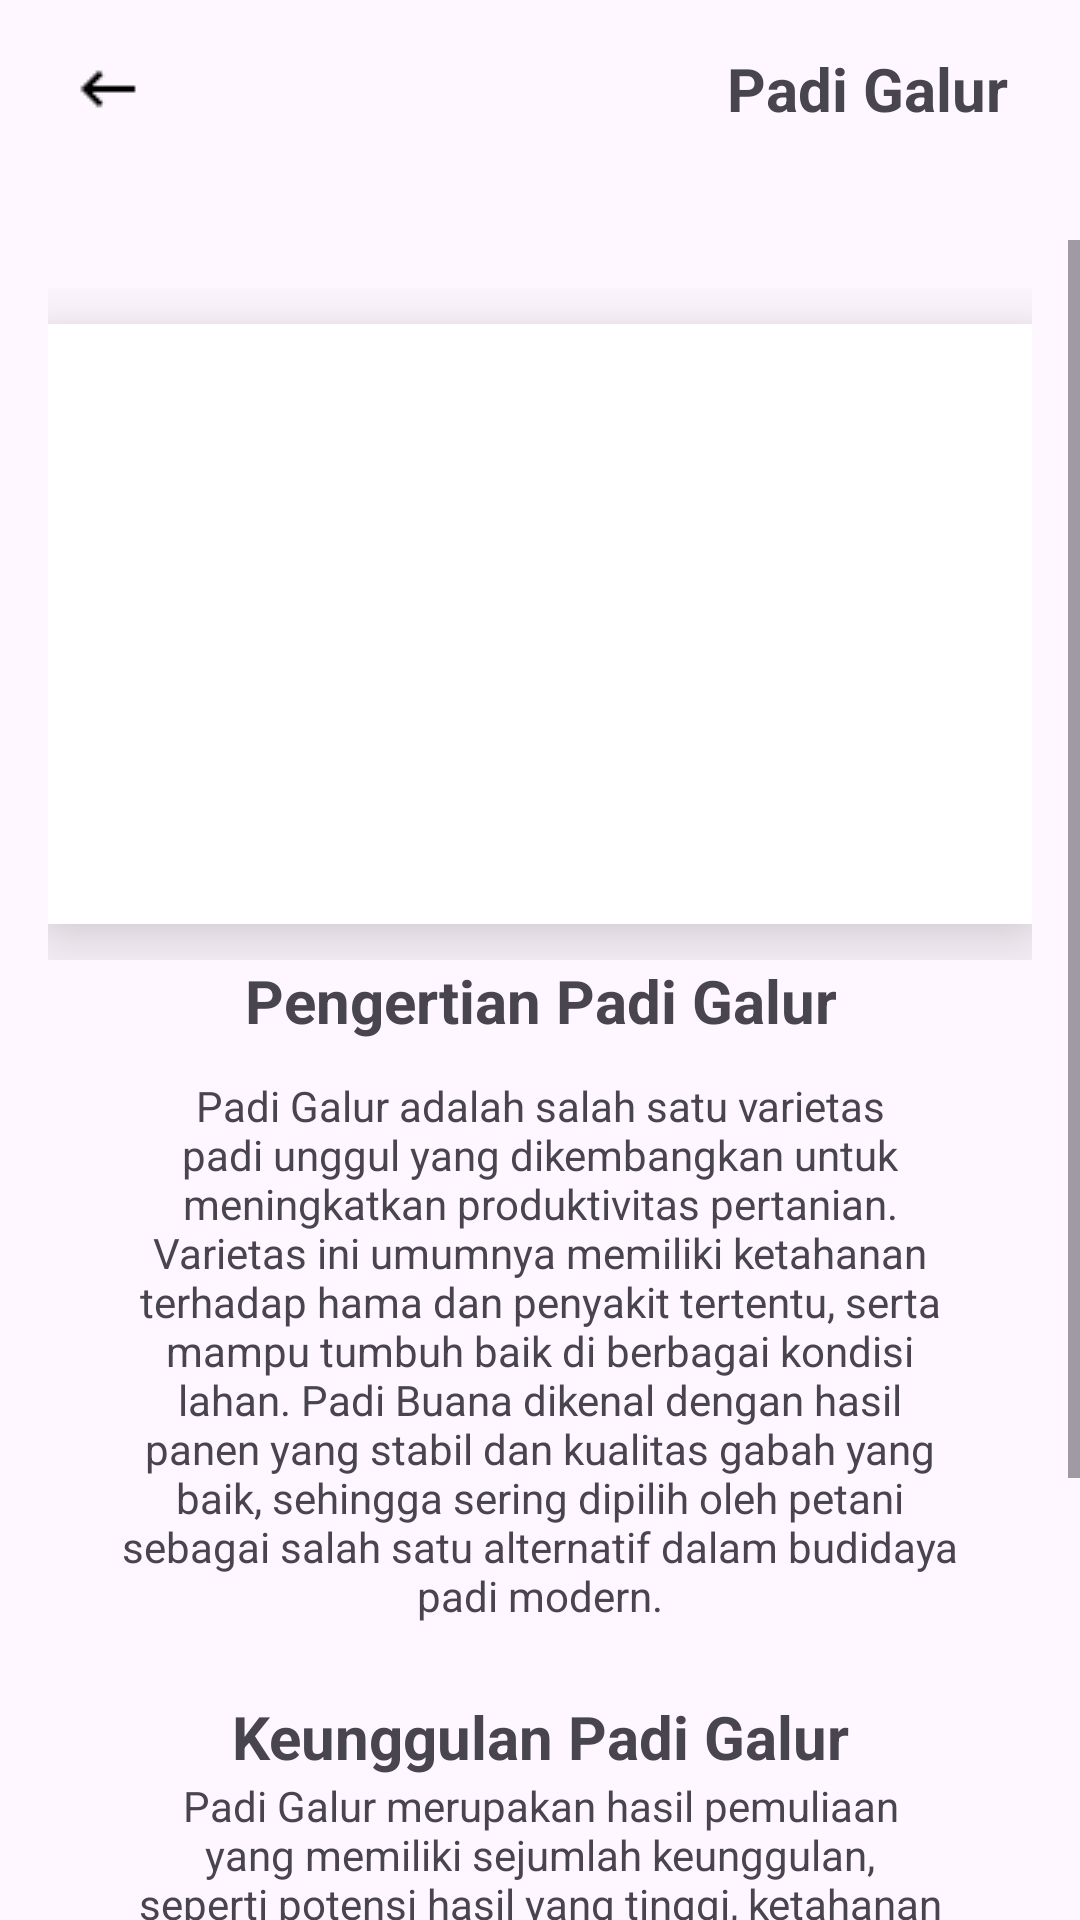

Named icons in this screenshot (1080w x 1920h) and their centers, (x,y):
keyboard backspace: (108,89)
